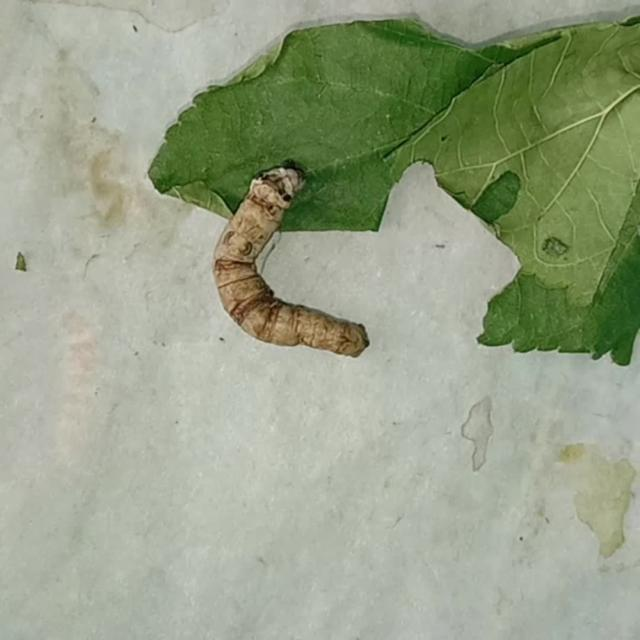Grasserie: (200, 154, 390, 372)
